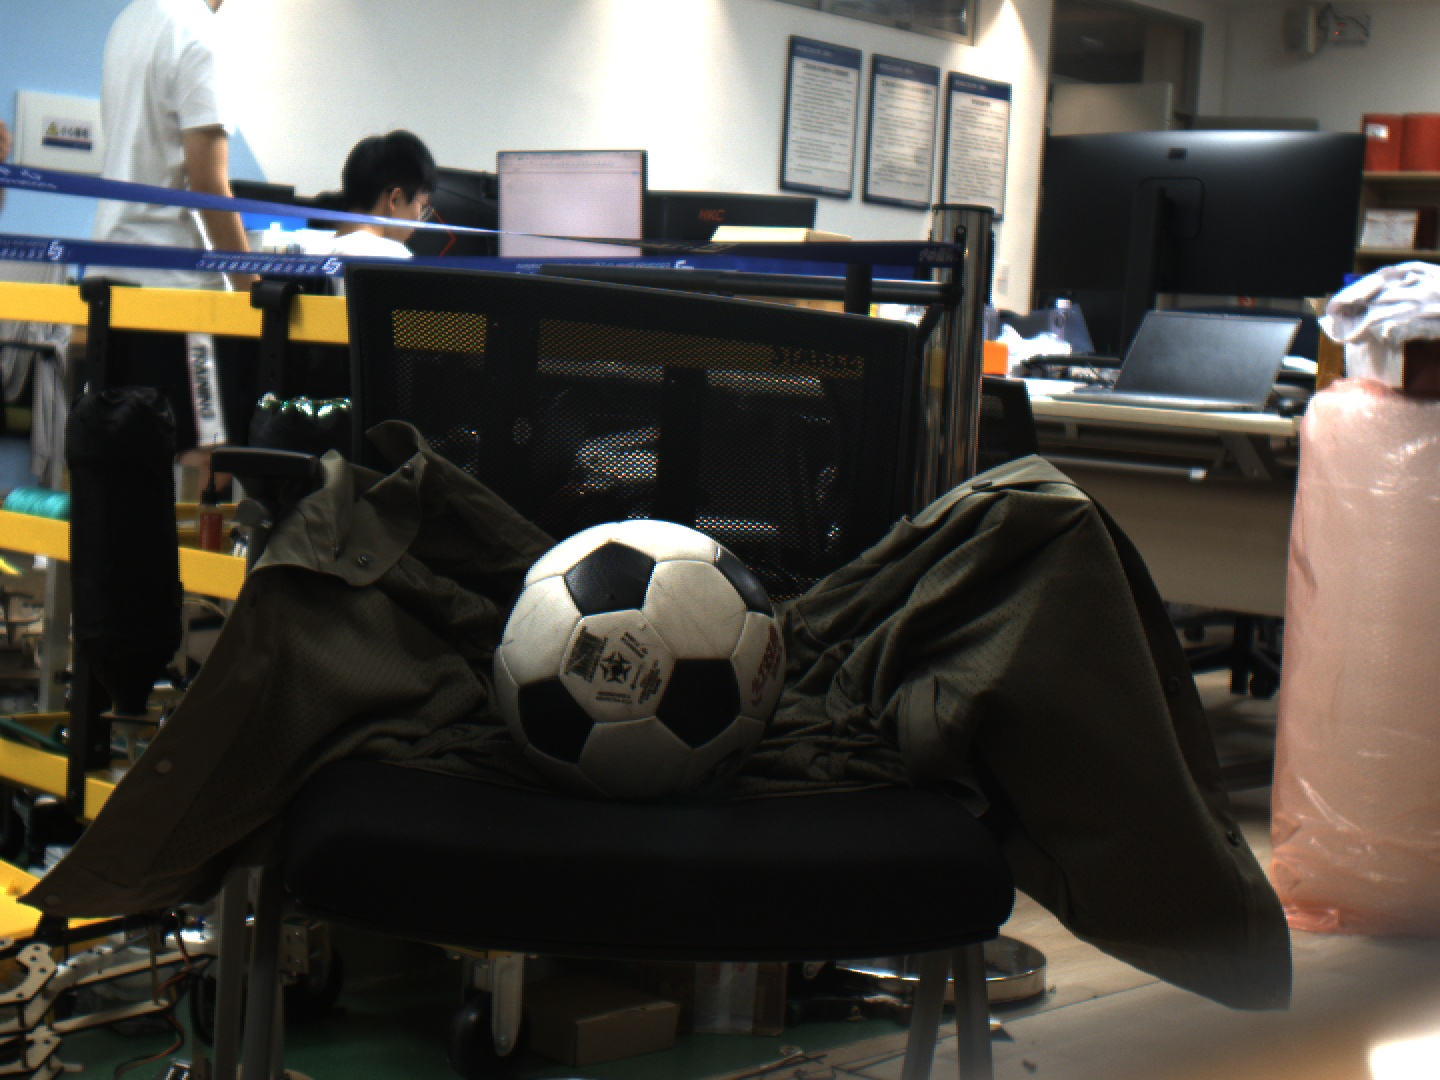ball: (481, 496, 810, 801)
